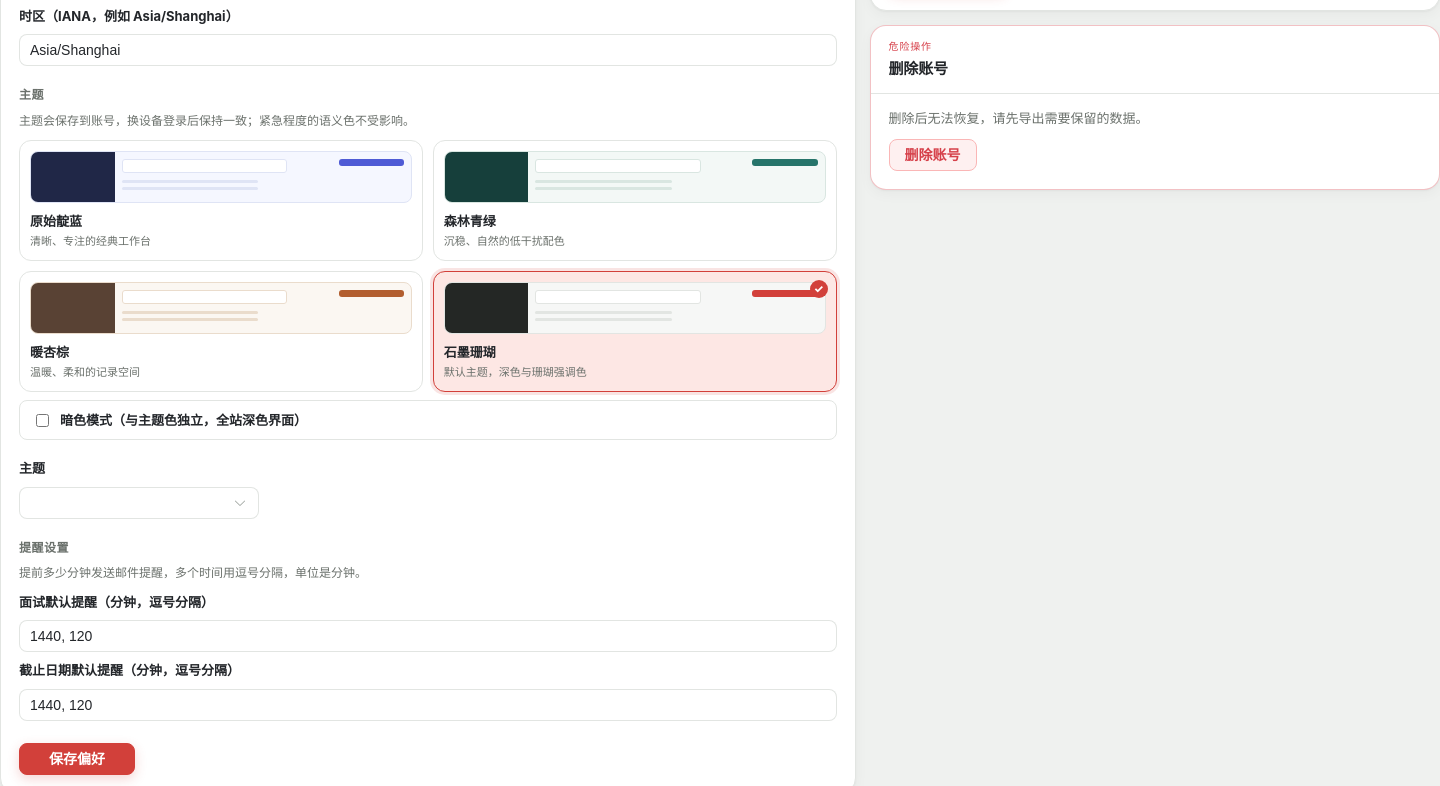
Scenario: SettingsView › keeps the saved reminder offsets instead of overwriting them with stale current-user data
(page scrolled)
Replace the text in the 2nd field named "interviewReminderOffsets" with "5, 60" at (428, 636), box 30,621 -> 826,651
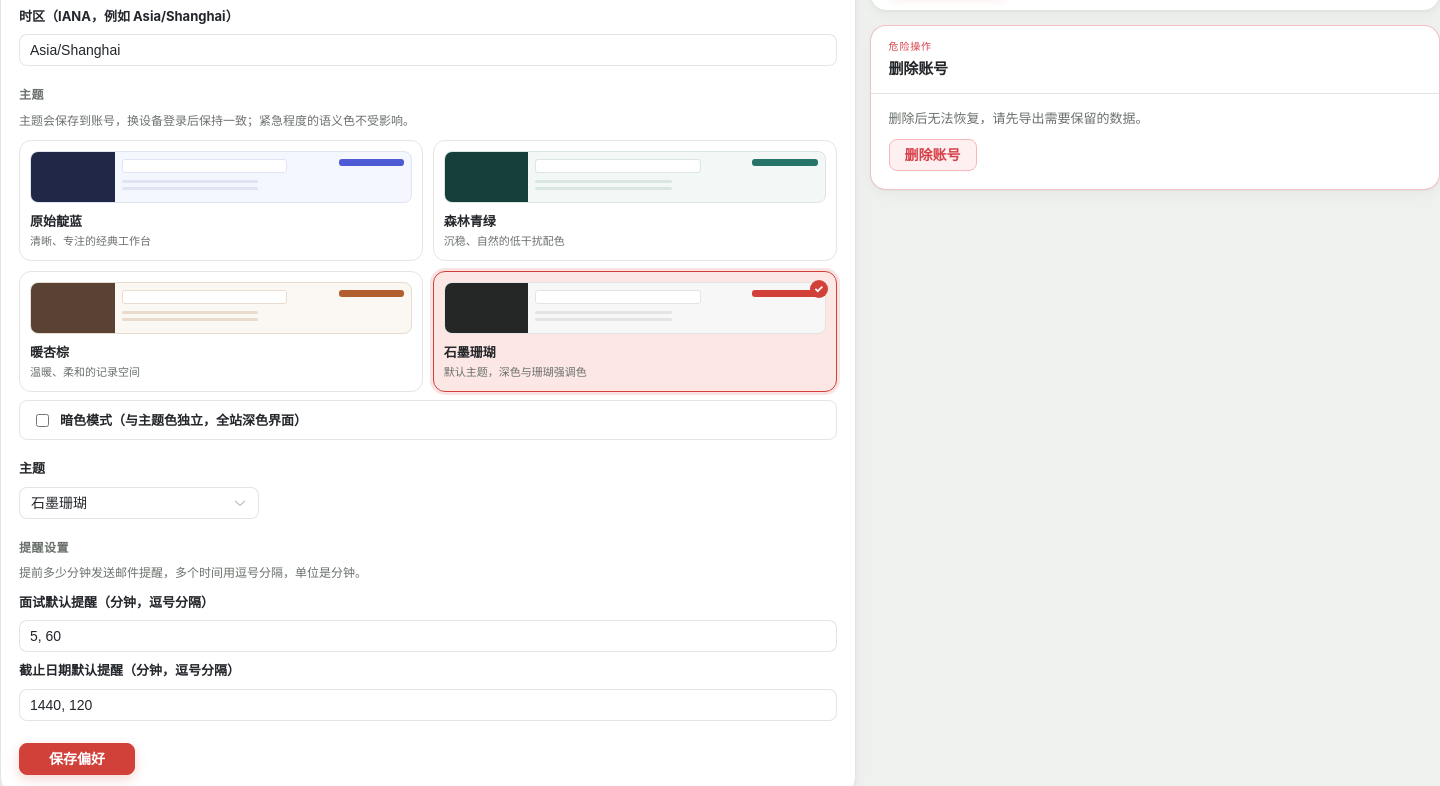
Replace the text in the field named "deadlineReminderOffsets" with "10" at (428, 705), box 30,690 -> 826,720
(page scrolled)
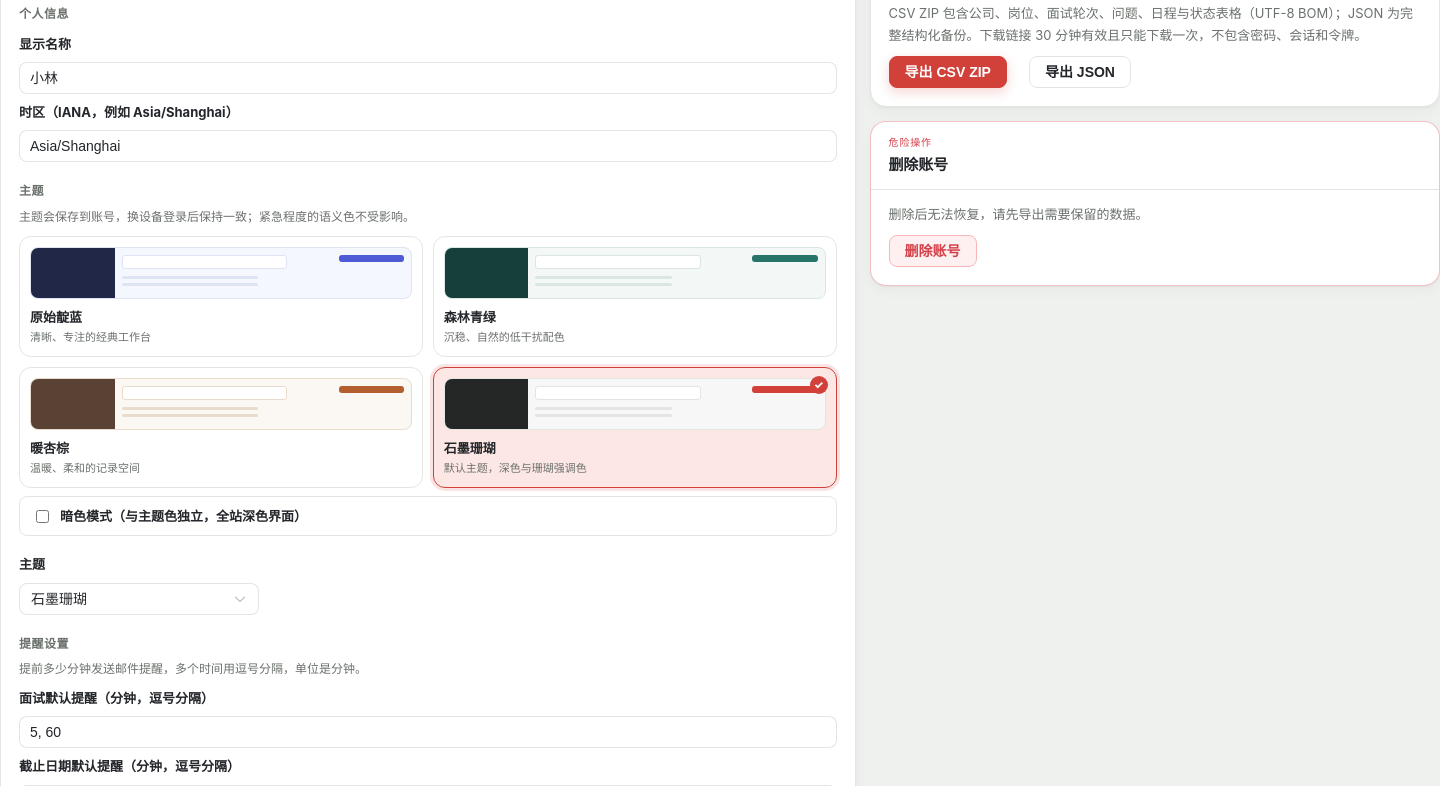
Submit the form
(page scrolled)
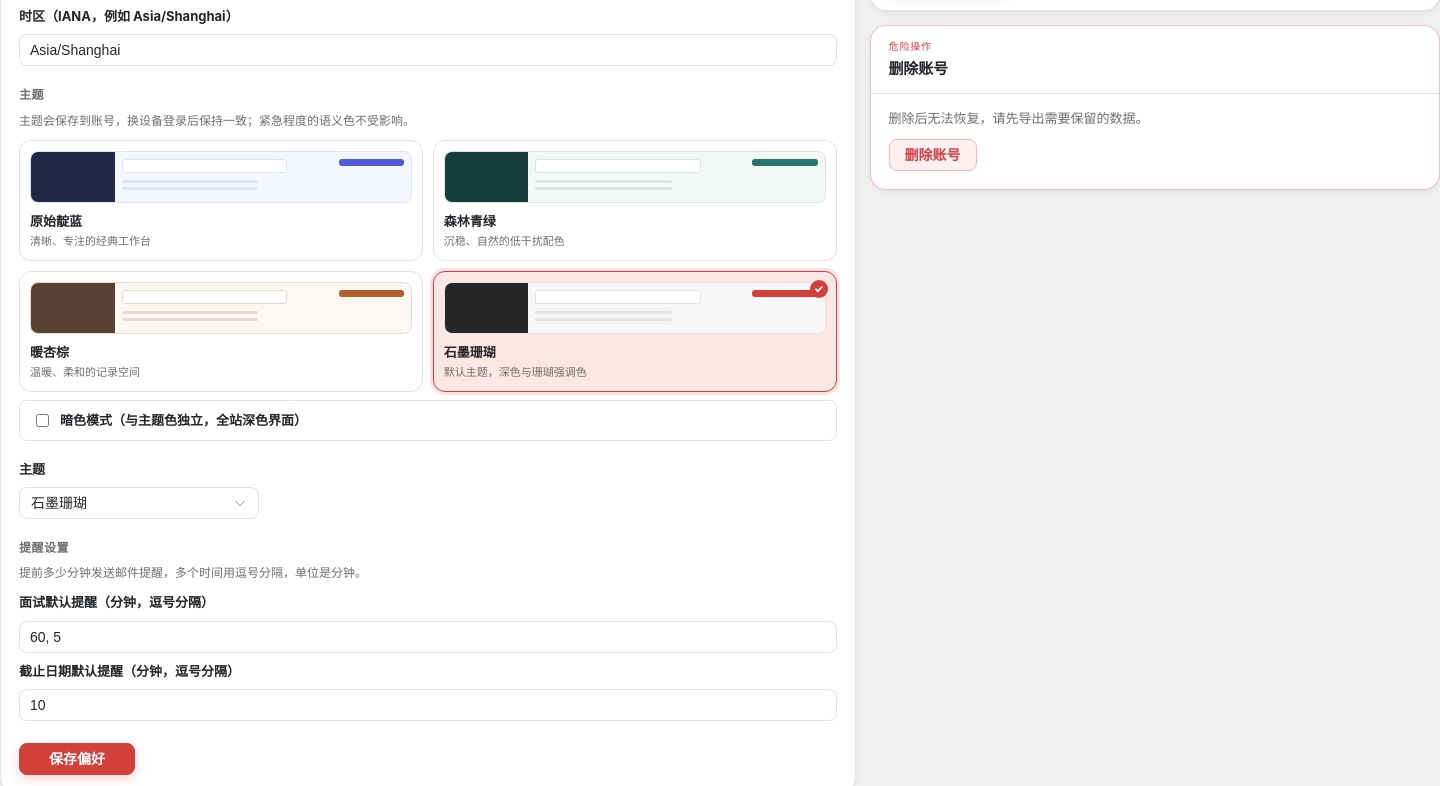
Expected: the field named "interviewReminderOffsets" holds "60, 5", 30,622 -> 826,652
